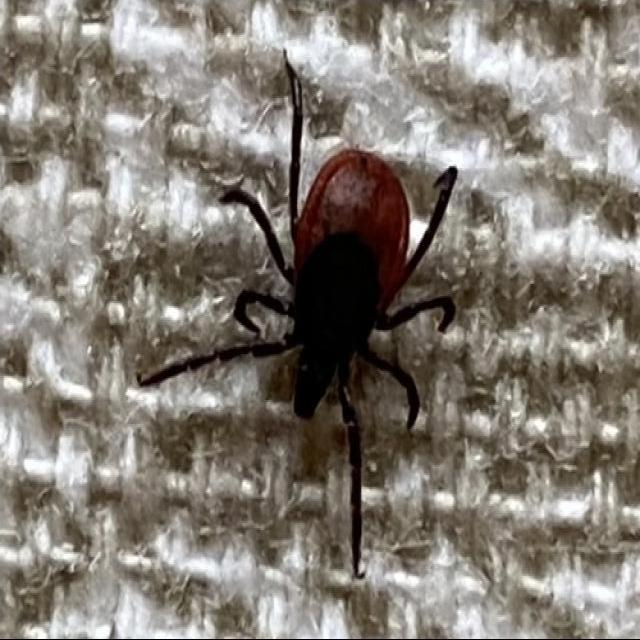Ixodes Ricinus-F: (140, 65, 457, 579)
